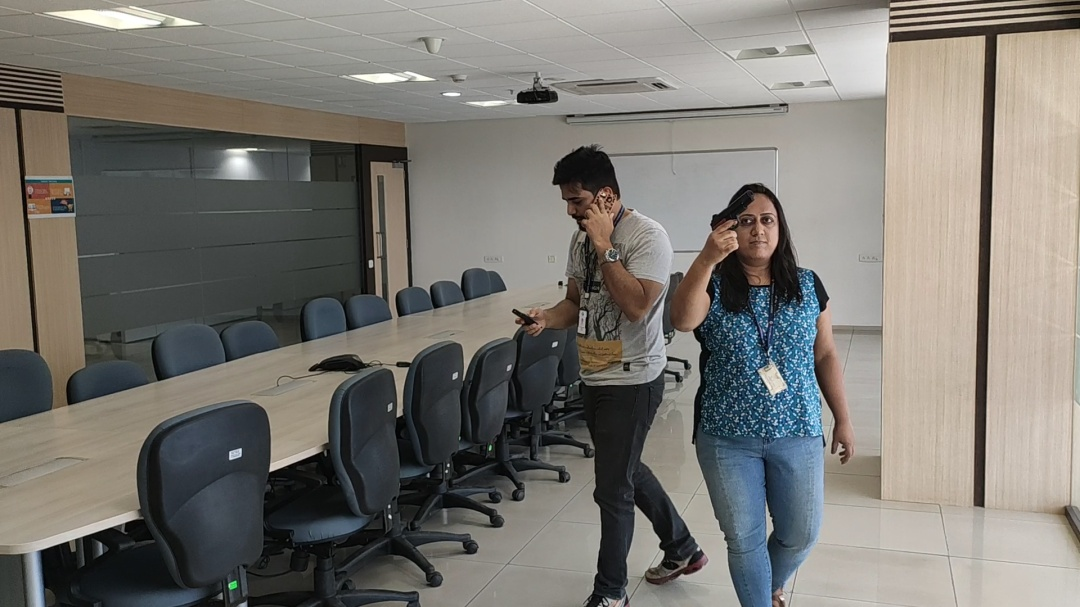gun: (710, 190, 755, 232)
